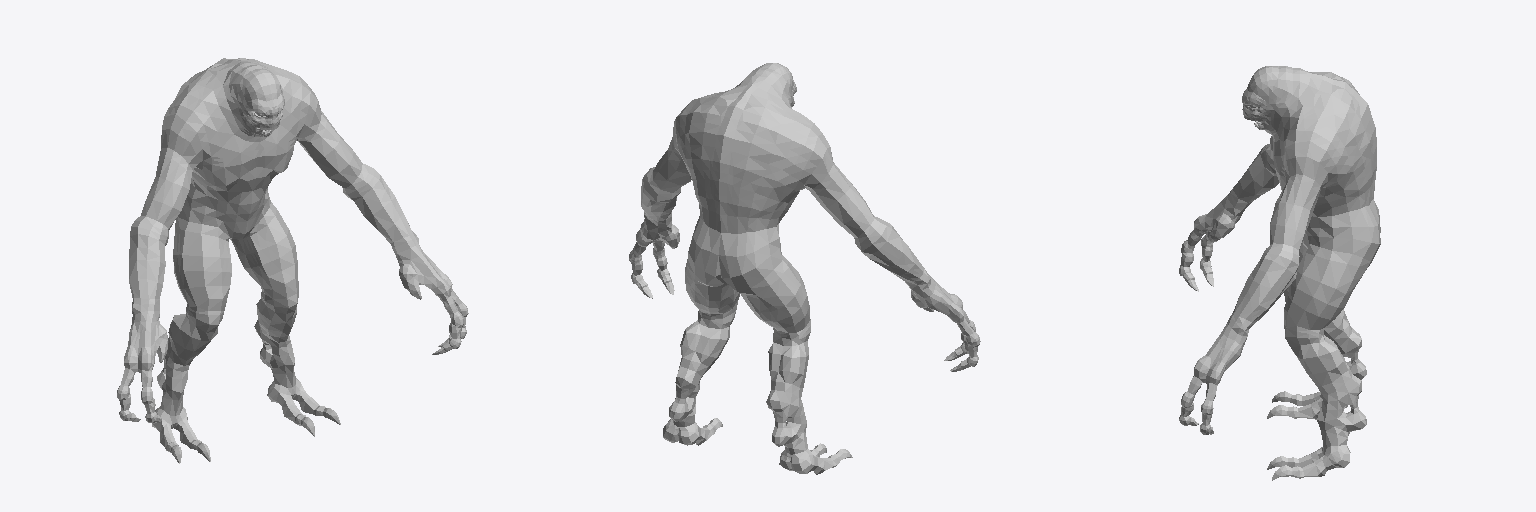
Rendered from librarian.obj.
The picture shows the model from 3 angles: view 1: azimuth 30°, elevation 25°; view 2: azimuth 150°, elevation 25°; view 3: azimuth 270°, elevation 25°; orthographic projection.
Visible parts, largest first — view 1: Librarian:reference_; view 2: Librarian:reference_; view 3: Librarian:reference_.
Part boxes in pixels (left/top/right/bottom): Librarian:reference_: left=117, top=58, right=468, bottom=463; Librarian:reference_: left=629, top=63, right=980, bottom=474; Librarian:reference_: left=1179, top=66, right=1380, bottom=480.
Bounding box in the file's own units: 9.83 × 10.11 × 4.9.